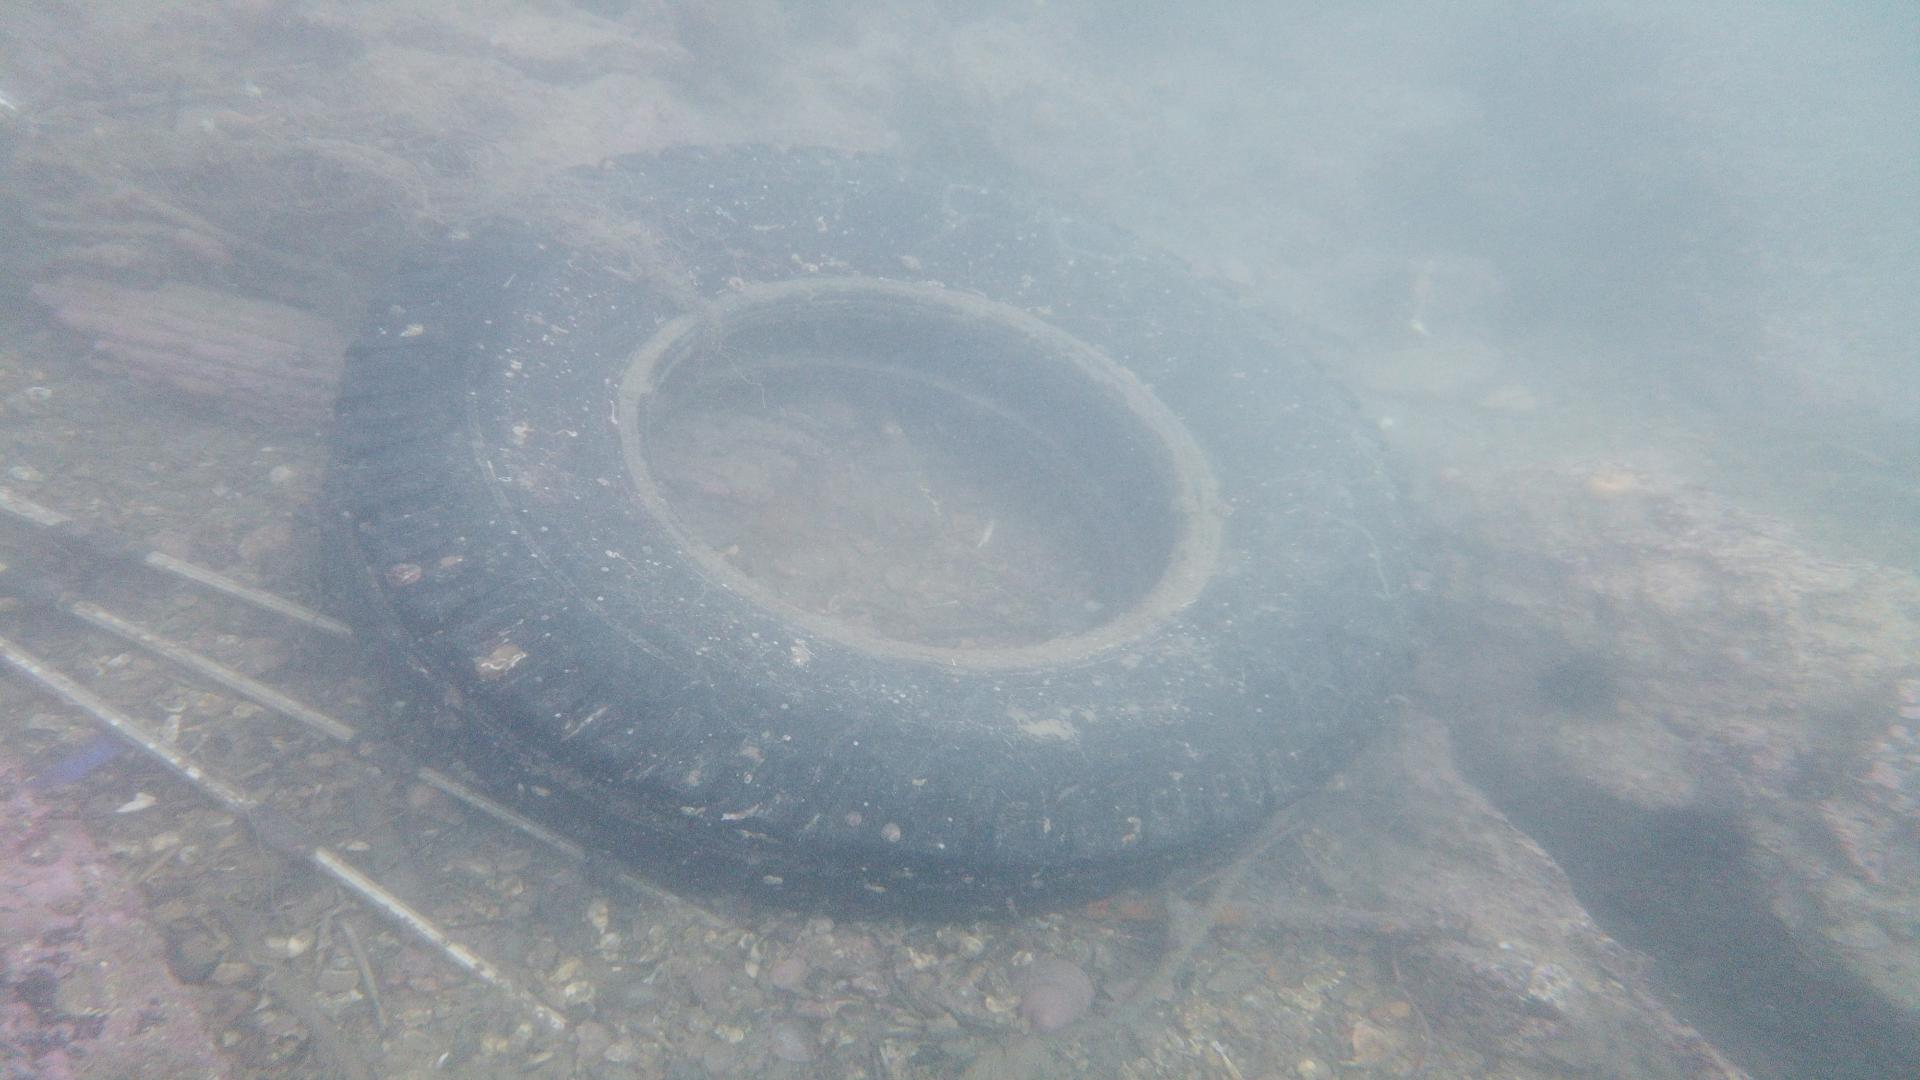tire: (334, 141, 1447, 920)
